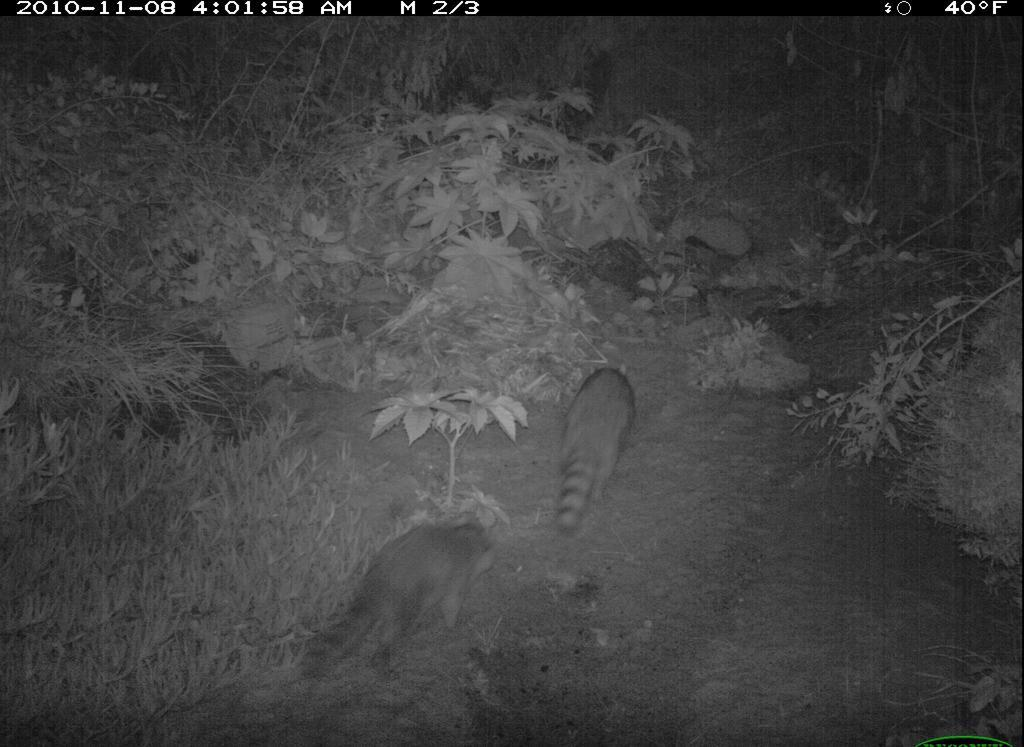raccoon: (295, 511, 502, 678), (548, 345, 646, 546)
